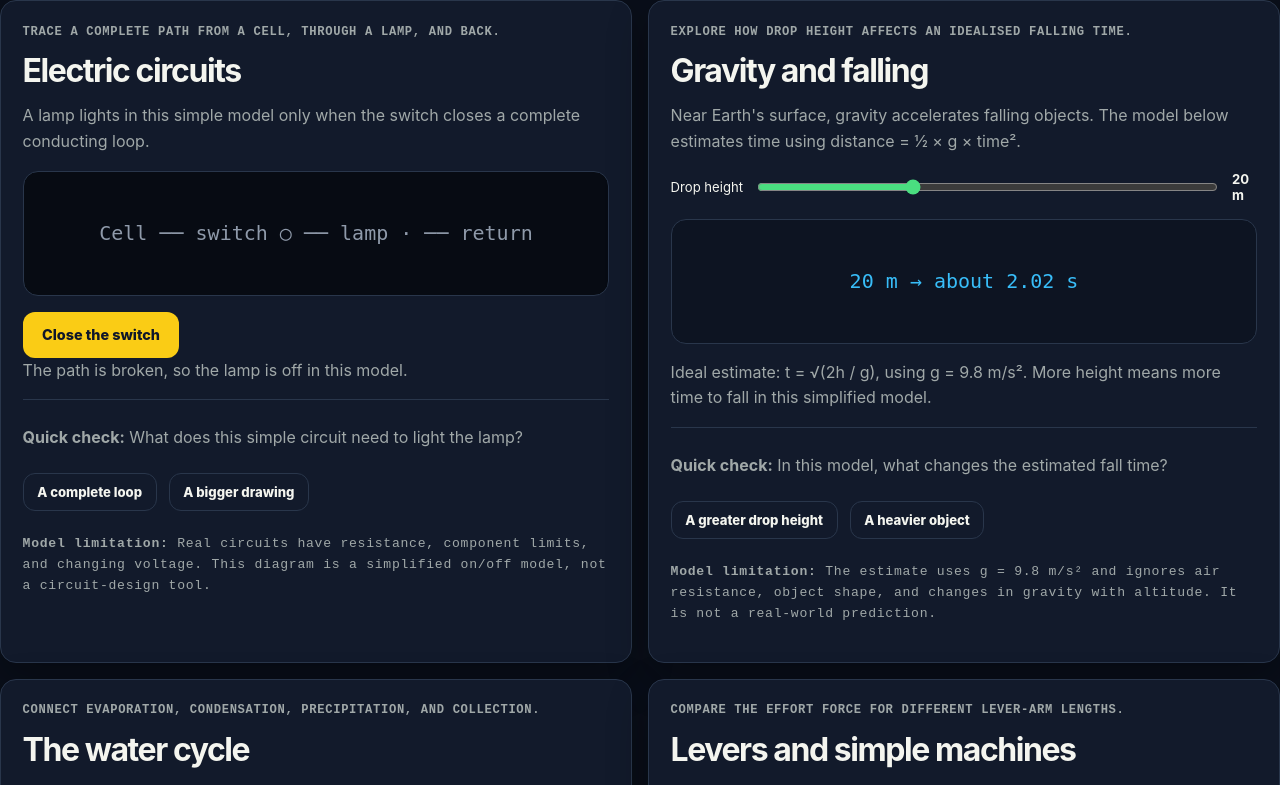
Test case: ScienceExperiences › updates gravity time when the height slider changes
Set the slider labelled "Drop height 20 m" to "30": {"x": 1012, "y": 187} [757,179,1218,195]
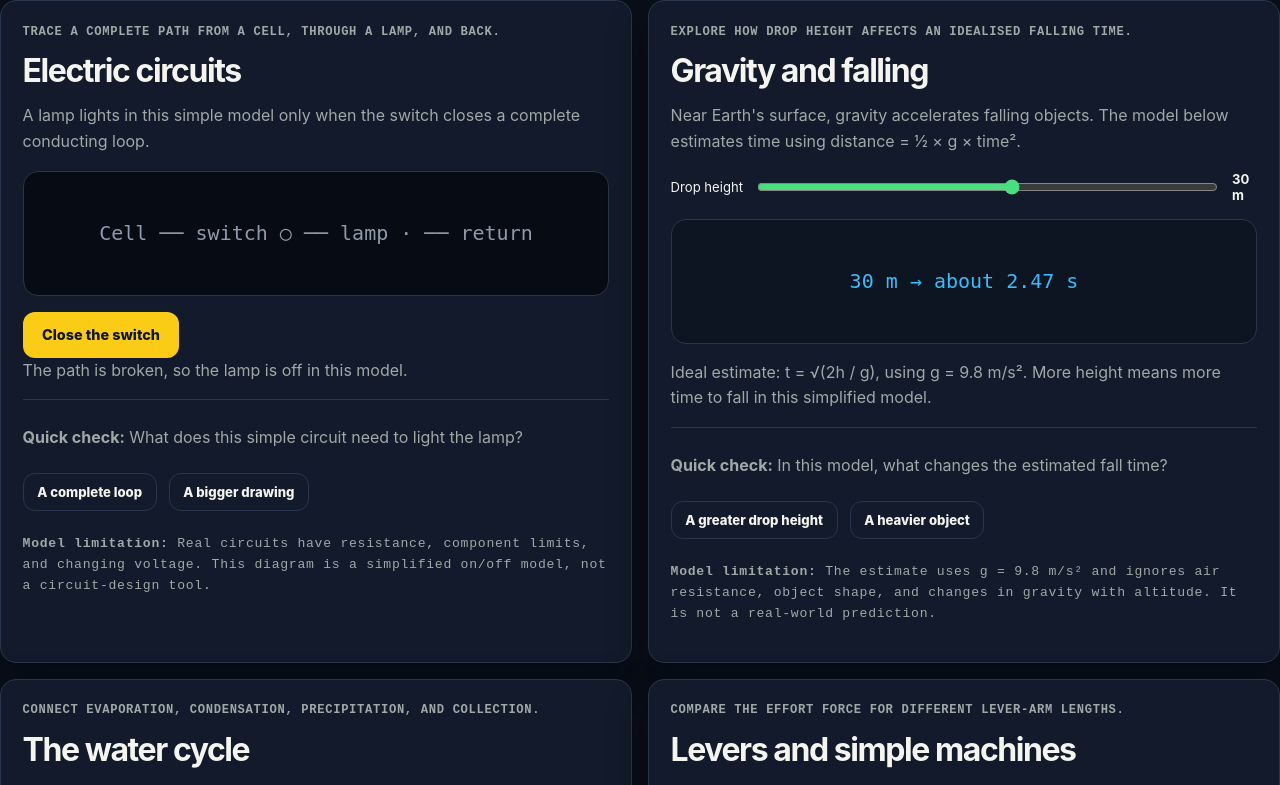
Result: the text "30 m → about 2.47 s" is shown at [671,219,1257,344]
